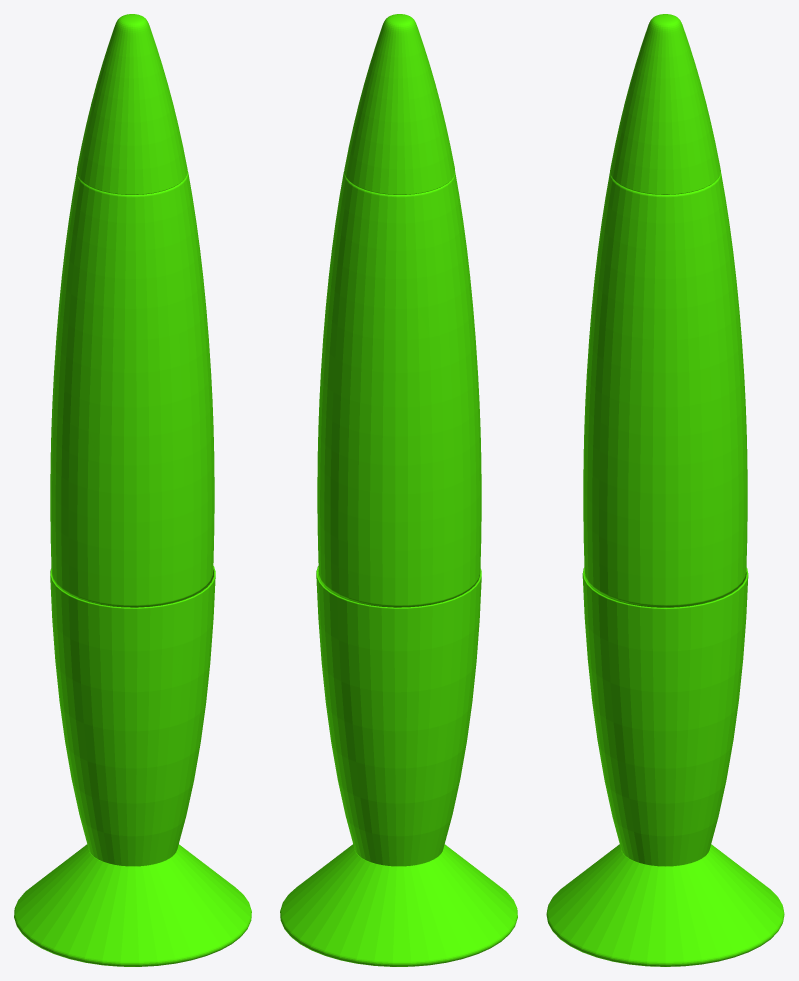
File: lava_lamp.obj
3 views of the same model, side by side, from view 1: azimuth 30°, elevation 25°; view 2: azimuth 150°, elevation 25°; view 3: azimuth 270°, elevation 25° (orthographic).
Parts seen in each view (by area): view 1: Shape03, Line02, Shape02; view 2: Shape03, Line02, Shape02; view 3: Shape03, Line02, Shape02.
Part boxes in pixels (x1,y1,x2,y2): Shape03: [50, 171, 214, 607]; Line02: [14, 566, 251, 966]; Shape02: [76, 14, 187, 194]; Shape03: [317, 171, 481, 607]; Line02: [280, 566, 517, 966]; Shape02: [344, 14, 455, 194]; Shape03: [583, 172, 747, 607]; Line02: [546, 568, 784, 966]; Shape02: [610, 14, 720, 194].
Size of the model in its own units: 42.41 by 177 by 42.41.
